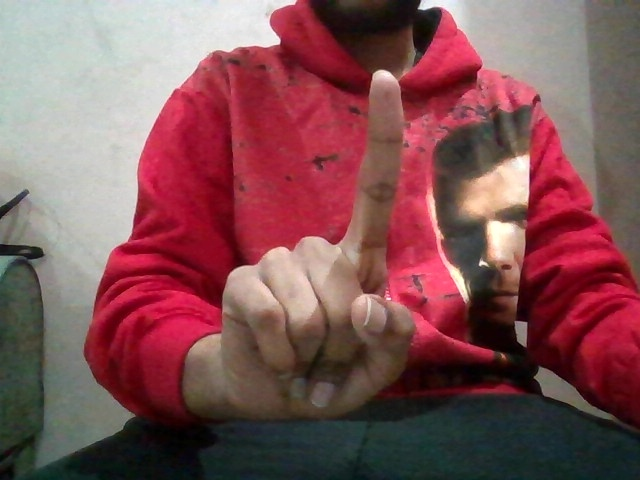D: (216, 59, 430, 430)
